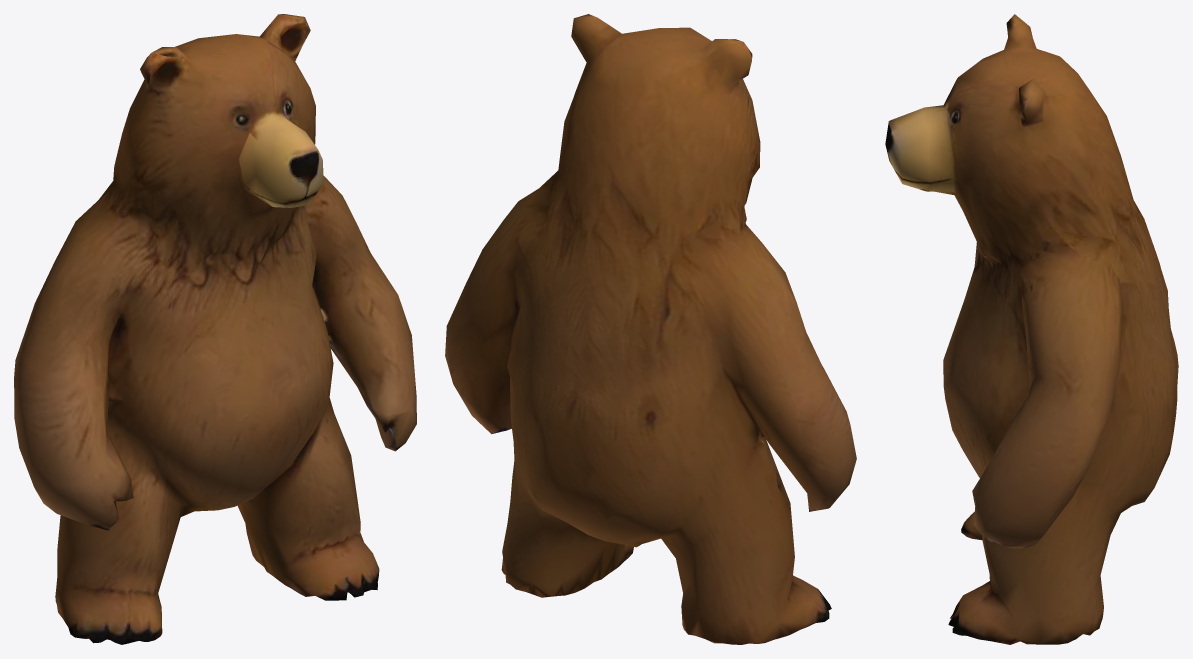
Rendered from mob_brown_bear.glb.
The picture shows the model from 3 angles, left to right: view 1: azimuth 30°, elevation 25°; view 2: azimuth 150°, elevation 25°; view 3: azimuth 270°, elevation 25°; orthographic projection. The views are drawn at different scales.
Visible parts, largest first — view 1: geometry_0; view 2: geometry_0; view 3: geometry_0.
Boxes of the visible parts, box(x1,y1,x2,y2) form: geometry_0: box(14, 14, 416, 644); geometry_0: box(445, 14, 856, 644); geometry_0: box(885, 14, 1178, 644).
Size of the model in its own units: 0.9847 by 1.39 by 0.6928.
Materials: 1 (1 with a texture image).
